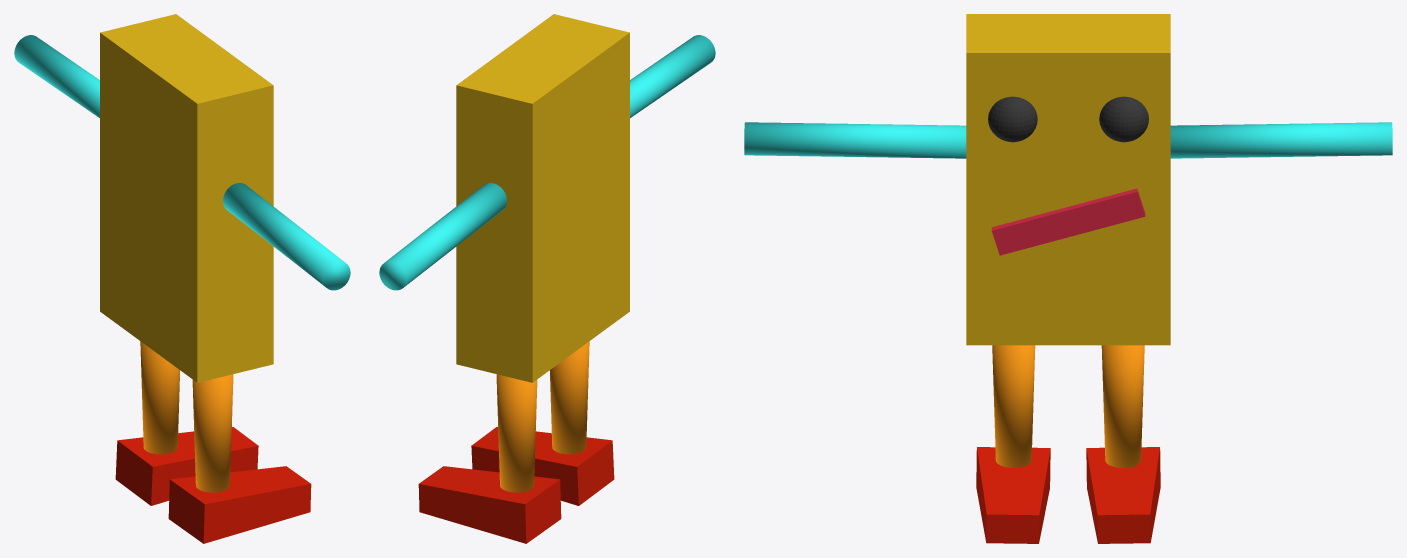
Rendered from mobA4.fbx.
The picture shows the model from 3 angles, left to right: view 1: azimuth 30°, elevation 25°; view 2: azimuth 150°, elevation 25°; view 3: azimuth 270°, elevation 25°; orthographic projection. The views are drawn at different scales.
Visible parts, largest first — view 1: foot; view 2: foot; view 3: foot.
Boxes of the visible parts, <box> form: foot: <box>14,14,350,543</box>; foot: <box>379,14,715,543</box>; foot: <box>744,14,1392,543</box>.
Size of the model in its own units: 0.0173 by 0.0598 by 0.075.
